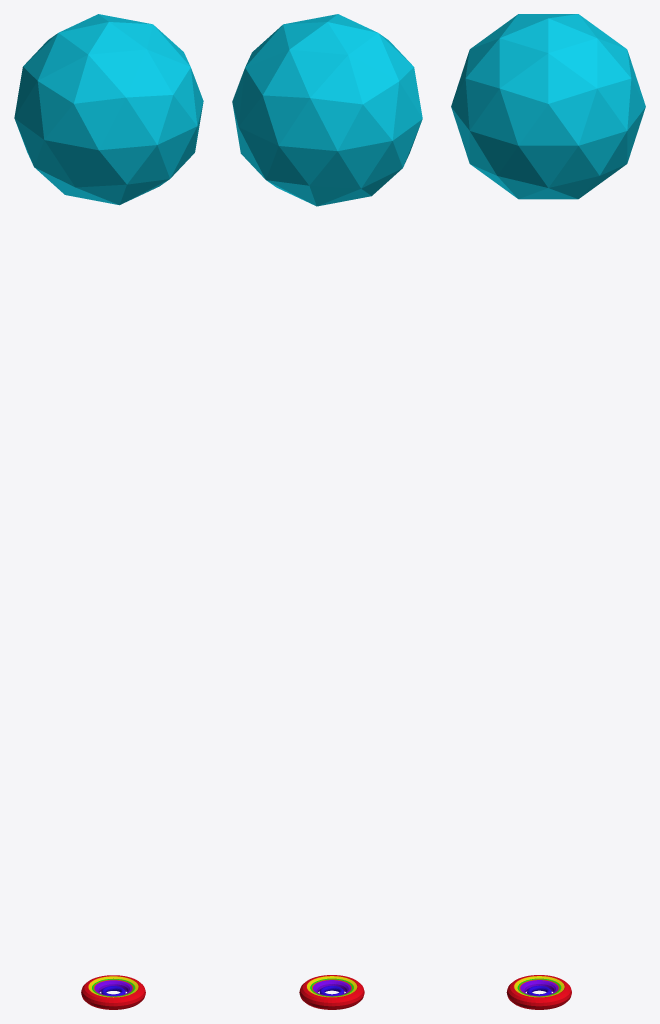
Rendered from WaveThing.glb.
3 renders of one model, left to right at view 1: azimuth 30°, elevation 25°; view 2: azimuth 150°, elevation 25°; view 3: azimuth 270°, elevation 25°, orthographic.
Parts seen in each view (by area): view 1: Icosphere, Torus.001; view 2: Icosphere, Torus.001; view 3: Icosphere, Torus.001.
Boxes of the visible parts, x1,y1,x2,y2 form: Icosphere: (14,14,203,205); Torus.001: (81,975,145,1009); Icosphere: (232,14,422,206); Torus.001: (299,975,364,1009); Icosphere: (451,14,645,199); Torus.001: (506,975,571,1009).
Size of what is drawn, in the model's own units: 1.9 by 11.1 by 2.
